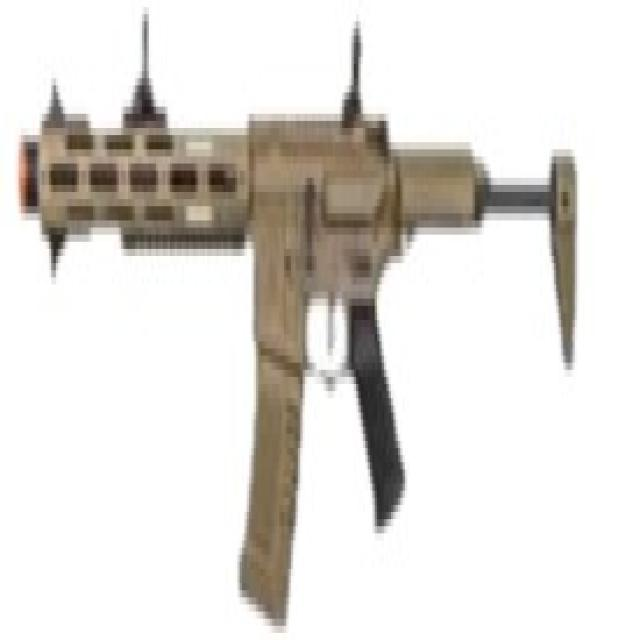rifle: (11, 2, 590, 640)
